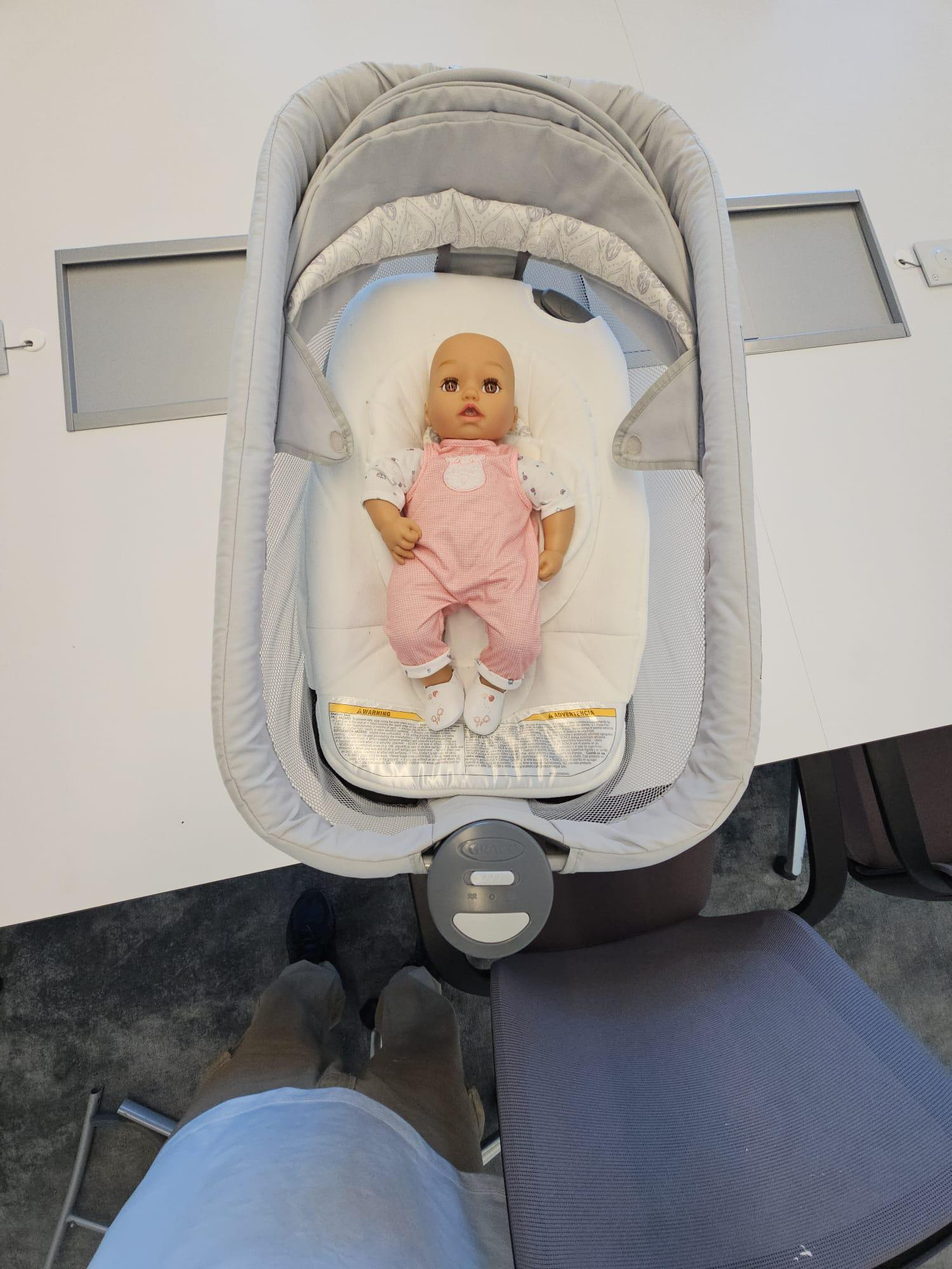baby: (343, 311, 587, 748)
